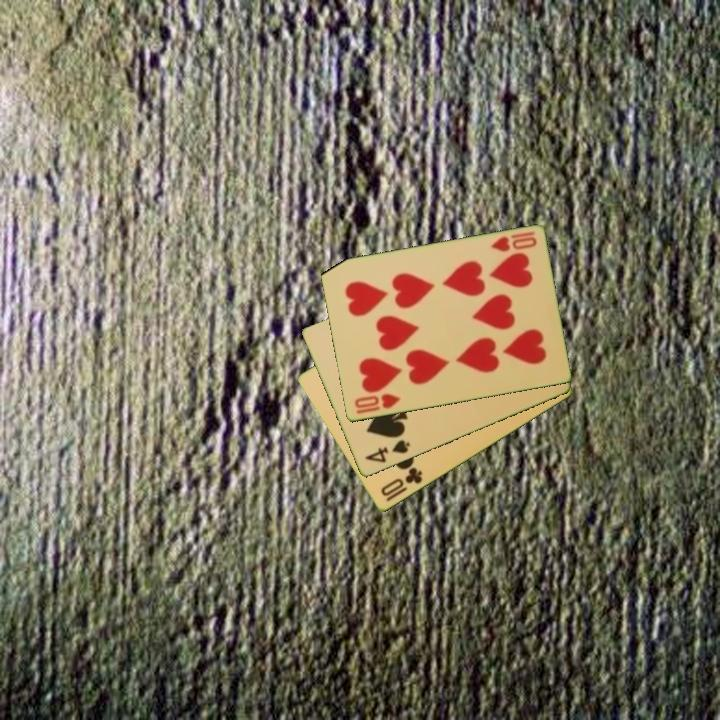10c: (377, 464, 425, 505)
10h: (351, 390, 403, 417), (487, 228, 539, 255)
4s: (361, 437, 413, 466)
